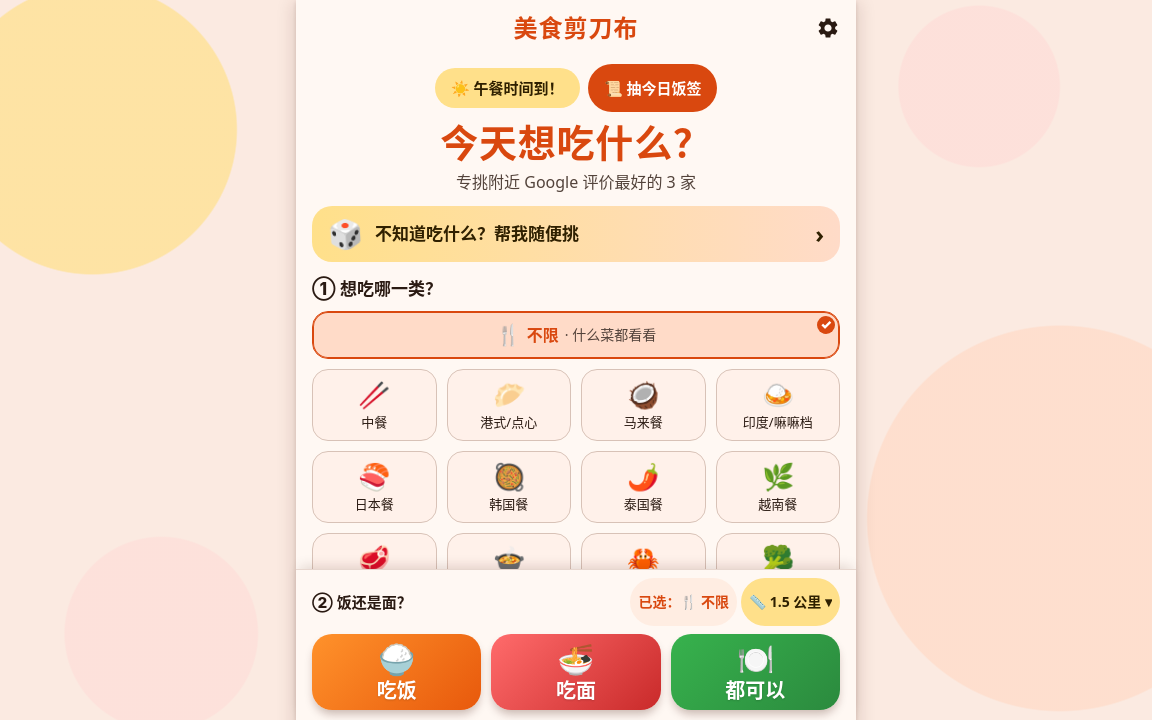
it: 🎲 帮你随便挑（功能清单第五节） › 转动中「就它了」「再摇一次」是灰的（不会在看到结果前就搜索），「算了，我自己选」随时能按
The width and height of the screenshot is (1152, 720).
Click the button "🎲 不知道吃什么？ 帮我随便挑 ›".
click(576, 234)  # box x1=312 y1=206 x2=840 y2=262
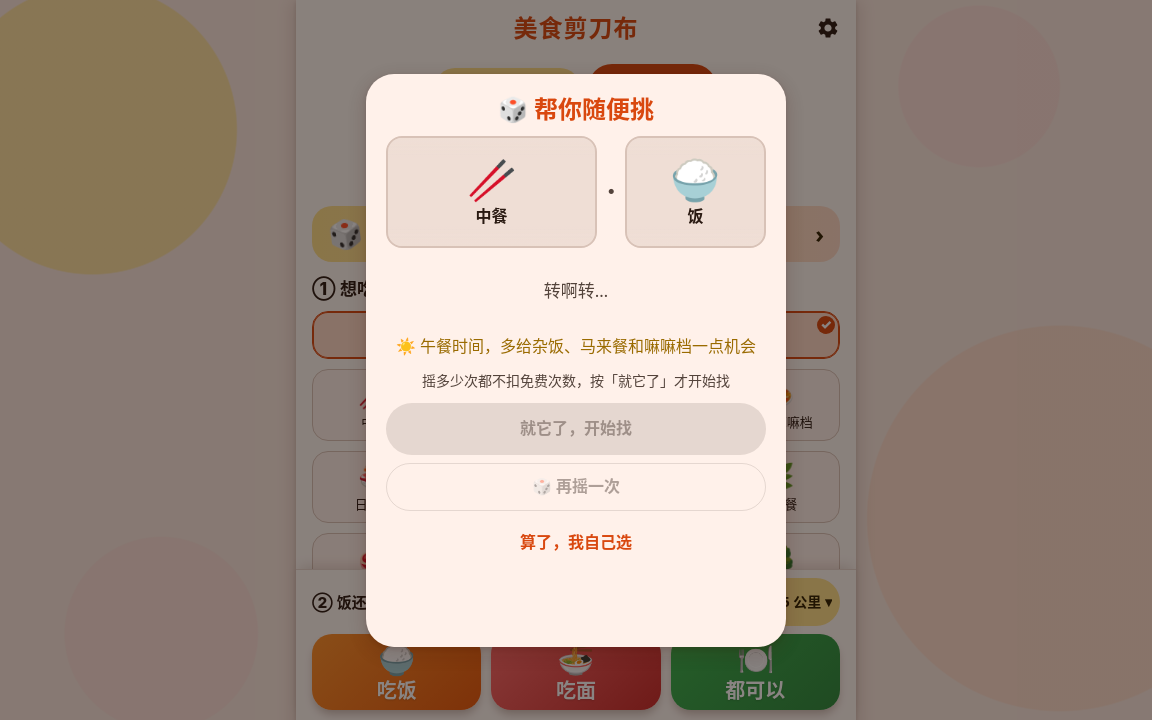
Expected: the button "就它了，开始找" is disabled, x1=386 y1=402 x2=766 y2=454
Expected: the button "🎲 再摇一次" is disabled, x1=386 y1=462 x2=766 y2=510
Expected: the text "转啊转…" is shown, x1=544 y1=278 x2=608 y2=303
Click the button "算了，我自己选".
click(576, 542)  # box x1=386 y1=518 x2=766 y2=566
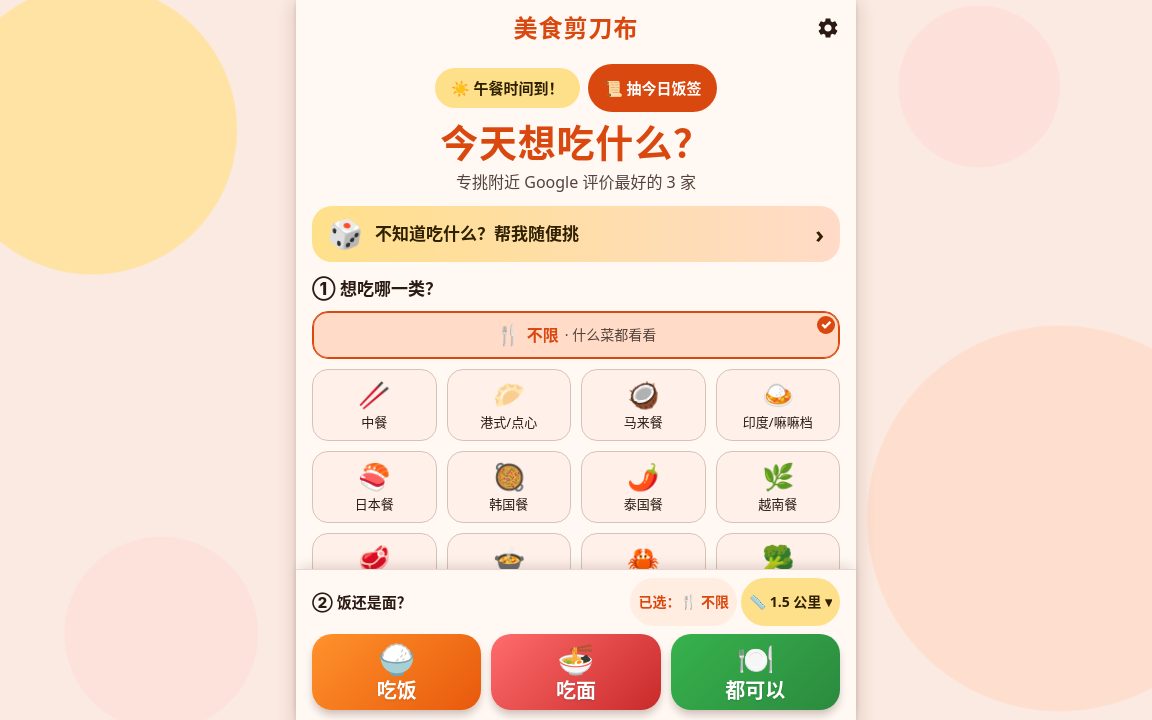
Expected: the dialog is gone
